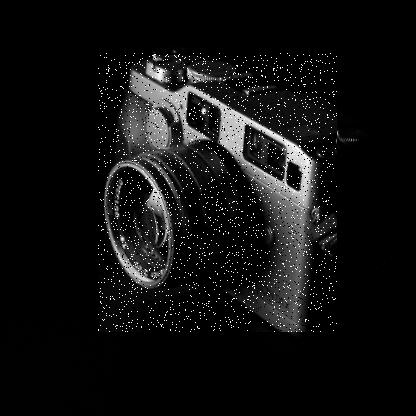Camera: (99, 54, 339, 334)
